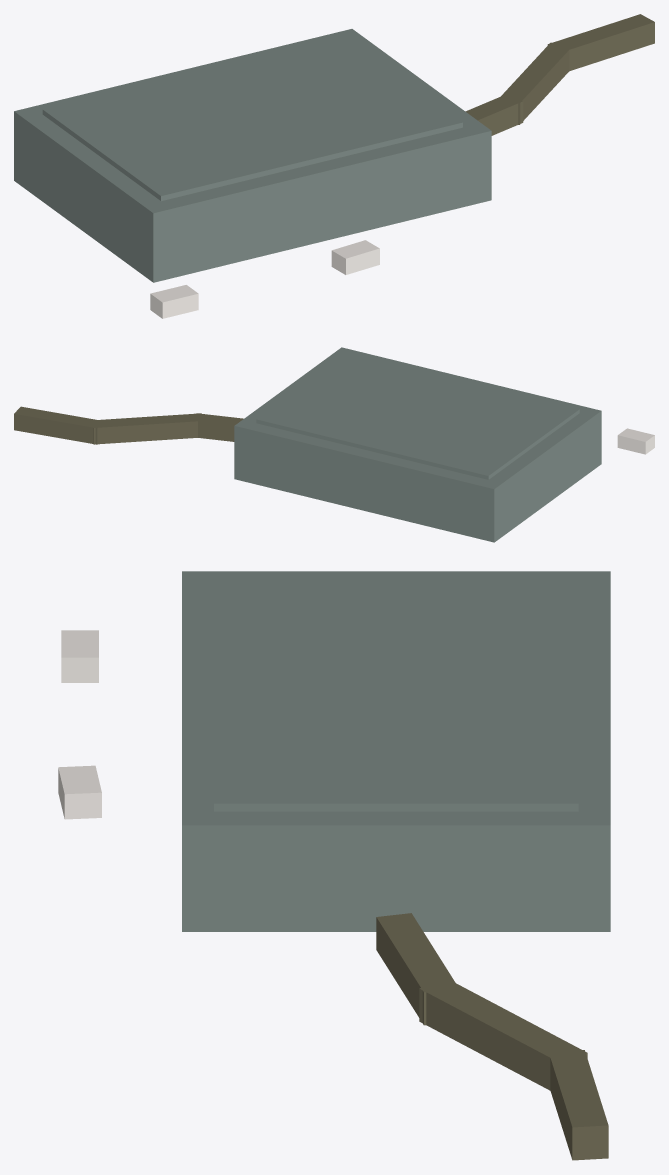
File: SM_CisternaFlexible_v3_SinBorde_LOD1.fbx
3 views of the same model, one above another, from view 1: azimuth 30°, elevation 25°; view 2: azimuth 150°, elevation 25°; view 3: azimuth 270°, elevation 25° (orthographic). The views are drawn at different scales.
Visible parts, largest first — view 1: SM_farp_betera_v3_LOD1; view 2: SM_farp_betera_v3_LOD1; view 3: SM_farp_betera_v3_LOD1.
Part boxes in pixels (x1,y1,x2,y2): SM_farp_betera_v3_LOD1: (14,14,654,318); SM_farp_betera_v3_LOD1: (14,347,654,542); SM_farp_betera_v3_LOD1: (58,571,610,1160).
Bounding box in the file's own units: 10.91 × 1.29 × 5.15.
